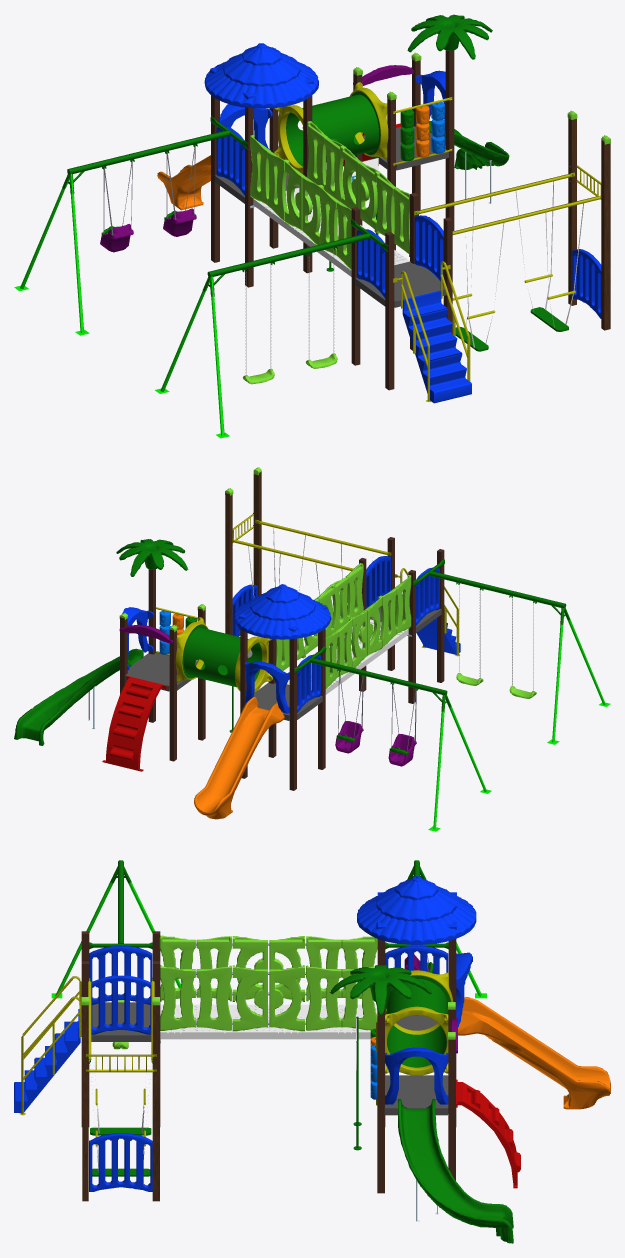
3 views of the same model, one above another, from view 1: azimuth 30°, elevation 25°; view 2: azimuth 150°, elevation 25°; view 3: azimuth 270°, elevation 25° (orthographic). The views are drawn at different scales.
Visible parts, largest first — view 1: TUNEL RETO 1M M3, TOLDO M2, ESCADA M1, JOGO DA VELHA, COQUEIRO M1, COLUNA MAD PLAST 9 X 9CM.018, PLATAFORMA M1.002, ESCORREGADOR M6, COLUNA MAD PLAST 9 X 9CM.004, FECHAMENTO M1.003, TRAV BALANCO ACOP M4 PINT, TRAV BALANCO ACOP M4 PINT.001 (+43 smaller); view 2: TUNEL RETO 1M M3, ESCORREGADOR M6, TOLDO M2, ESCALADA M2, ESCORREGADOR M4, COQUEIRO M1, COLUNA MAD PLAST 9 X 9CM.015, PLATAFORMA M1, TRAV BALANCO ACOP M4 PINT.001, TRAV BALANCO ACOP M4 PINT, COLUNA MAD PLAST 9 X 9CM.019, PORTAL M4.001 (+30 smaller); view 3: TOLDO M2, ESCORREGADOR M4, ESCORREGADOR M6, TUNEL RETO 1M M3, PASSARELA FIXA 3M M3, FECHAMENTO M1.003, FECHAMENTO M1.002, ESCADA M1, COQUEIRO M1, ESCALADA M2, LATERAL M4.003, LATERAL M4.005 (+29 smaller).
Part boxes in pixels (x1=…): TUNEL RETO 1M M3: x1=274, y1=82, x2=388, y2=174; TOLDO M2: x1=204, y1=43, x2=318, y2=108; ESCADA M1: x1=402, y1=290, x2=471, y2=403; JOGO DA VELHA: x1=393, y1=97, x2=452, y2=165; COQUEIRO M1: x1=407, y1=14, x2=492, y2=59; COLUNA MAD PLAST 9 X 9CM.018: x1=601, y1=140, x2=610, y2=330; PLATAFORMA M1.002: x1=355, y1=261, x2=446, y2=307; ESCORREGADOR M6: x1=157, y1=155, x2=260, y2=210; COLUNA MAD PLAST 9 X 9CM.004: x1=445, y1=50, x2=454, y2=230; FECHAMENTO M1.003: x1=572, y1=249, x2=601, y2=318; TRAV BALANCO ACOP M4 PINT: x1=203, y1=219, x2=388, y2=296; TRAV BALANCO ACOP M4 PINT.001: x1=62, y1=116, x2=247, y2=193; TUNEL RETO 1M M3: x1=175, y1=617, x2=272, y2=692; ESCORREGADOR M6: x1=194, y1=697, x2=284, y2=819; TOLDO M2: x1=234, y1=584, x2=331, y2=639; ESCALADA M2: x1=102, y1=676, x2=166, y2=771; ESCORREGADOR M4: x1=14, y1=648, x2=143, y2=745; COQUEIRO M1: x1=116, y1=539, x2=188, y2=576; COLUNA MAD PLAST 9 X 9CM.015: x1=289, y1=638, x2=296, y2=790; PLATAFORMA M1: x1=125, y1=652, x2=197, y2=691; TRAV BALANCO ACOP M4 PINT.001: x1=294, y1=646, x2=451, y2=711; TRAV BALANCO ACOP M4 PINT: x1=413, y1=559, x2=569, y2=624; COLUNA MAD PLAST 9 X 9CM.019: x1=225, y1=493, x2=232, y2=635; PORTAL M4.001: x1=244, y1=661, x2=289, y2=713; TOLDO M2: x1=357, y1=876, x2=476, y2=944; ESCORREGADOR M4: x1=398, y1=1099, x2=513, y2=1243; ESCORREGADOR M6: x1=458, y1=997, x2=610, y2=1109; TUNEL RETO 1M M3: x1=385, y1=970, x2=453, y2=1075; PASSARELA FIXA 3M M3: x1=160, y1=1004, x2=377, y2=1043; FECHAMENTO M1.003: x1=89, y1=1133, x2=152, y2=1191; FECHAMENTO M1.002: x1=91, y1=975, x2=151, y2=1034; ESCADA M1: x1=14, y1=1009, x2=80, y2=1112; COQUEIRO M1: x1=330, y1=965, x2=431, y2=1014; ESCALADA M2: x1=456, y1=1079, x2=520, y2=1188; LATERAL M4.003: x1=160, y1=965, x2=195, y2=1030; LATERAL M4.005: x1=196, y1=965, x2=231, y2=1030.
Size of the model in its own units: 7.59 by 3.29 by 7.64.
Materials: 29 (3 with a texture image).
